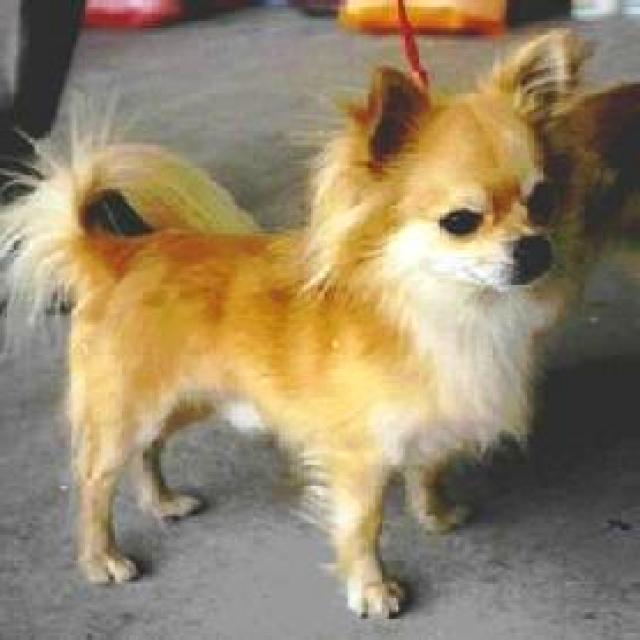chihuahua: (2, 23, 584, 638)
